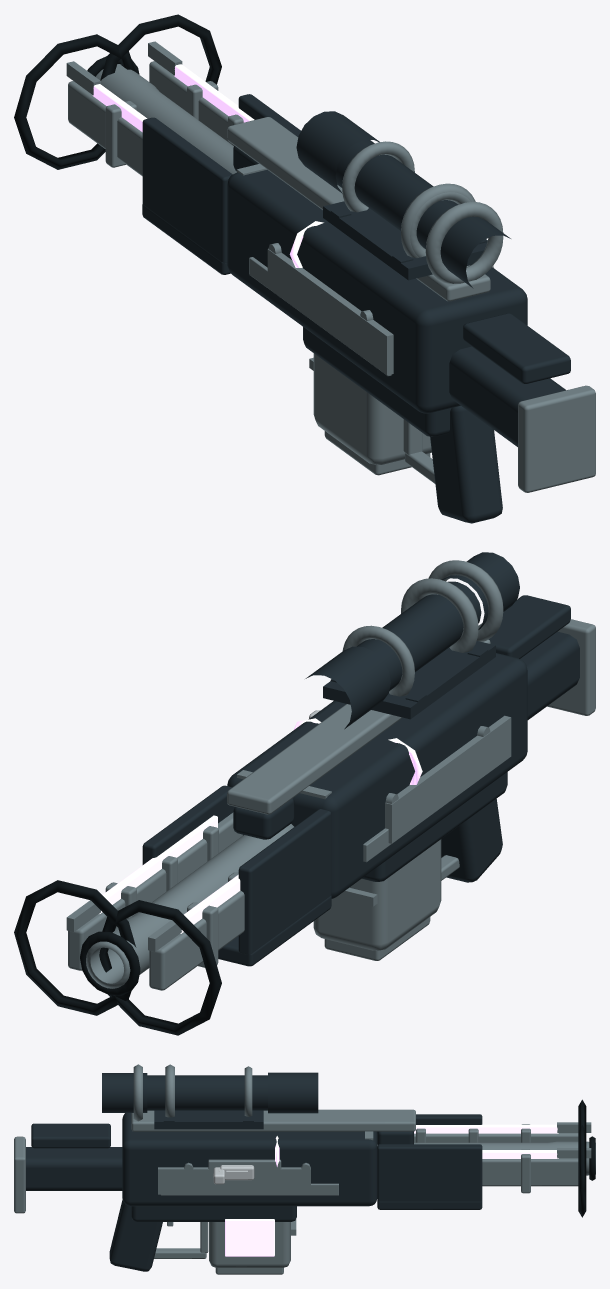
File: weapon-2.glb
The picture shows the model from 3 angles, top to bottom: view 1: azimuth 30°, elevation 25°; view 2: azimuth 150°, elevation 25°; view 3: azimuth 270°, elevation 25°; orthographic projection. The views are drawn at different scales.
Parts seen in each view (by area): view 1: body-dark, body-light, barrel-assembly-light, feed-light, barrel-assembly-cavity, barrel-assembly-glow; view 2: body-dark, body-light, barrel-assembly-light, barrel-assembly-cavity, feed-light, barrel-assembly-glow; view 3: body-dark, body-light, barrel-assembly-light, feed-light, barrel-assembly-glow, feed-glow, barrel-assembly-cavity, bolt-trim.
Part boxes in pixels (left/top/right/bottom): body-dark: left=142, top=94, right=570, bottom=523; body-light: left=227, top=117, right=595, bottom=492; barrel-assembly-light: left=66, top=41, right=243, bottom=176; feed-light: left=309, top=353, right=431, bottom=475; barrel-assembly-cavity: left=14, top=14, right=221, bottom=169; barrel-assembly-glow: left=92, top=64, right=323, bottom=267; body-dark: left=142, top=552, right=579, bottom=966; body-light: left=227, top=560, right=595, bottom=880; barrel-assembly-light: left=66, top=812, right=293, bottom=990; barrel-assembly-cavity: left=14, top=880, right=221, bottom=1035; feed-light: left=313, top=839, right=441, bottom=960; barrel-assembly-glow: left=99, top=718, right=422, bottom=933; body-dark: left=26, top=1072, right=482, bottom=1271; body-light: left=14, top=1064, right=415, bottom=1258; barrel-assembly-light: left=377, top=1122, right=595, bottom=1193; feed-light: left=209, top=1219, right=296, bottom=1274; barrel-assembly-glow: left=275, top=1124, right=558, bottom=1166; feed-glow: left=225, top=1219, right=274, bottom=1256; barrel-assembly-cavity: left=578, top=1099, right=595, bottom=1217; bolt-trim: left=213, top=1165, right=254, bottom=1184.
Size of the model in its own units: 0.338 by 0.4871 by 1.28.
